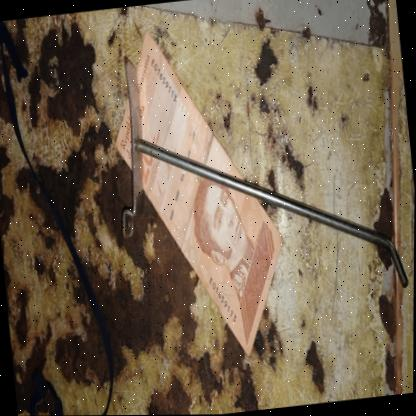twenty-front-vef: (101, 14, 297, 369)
